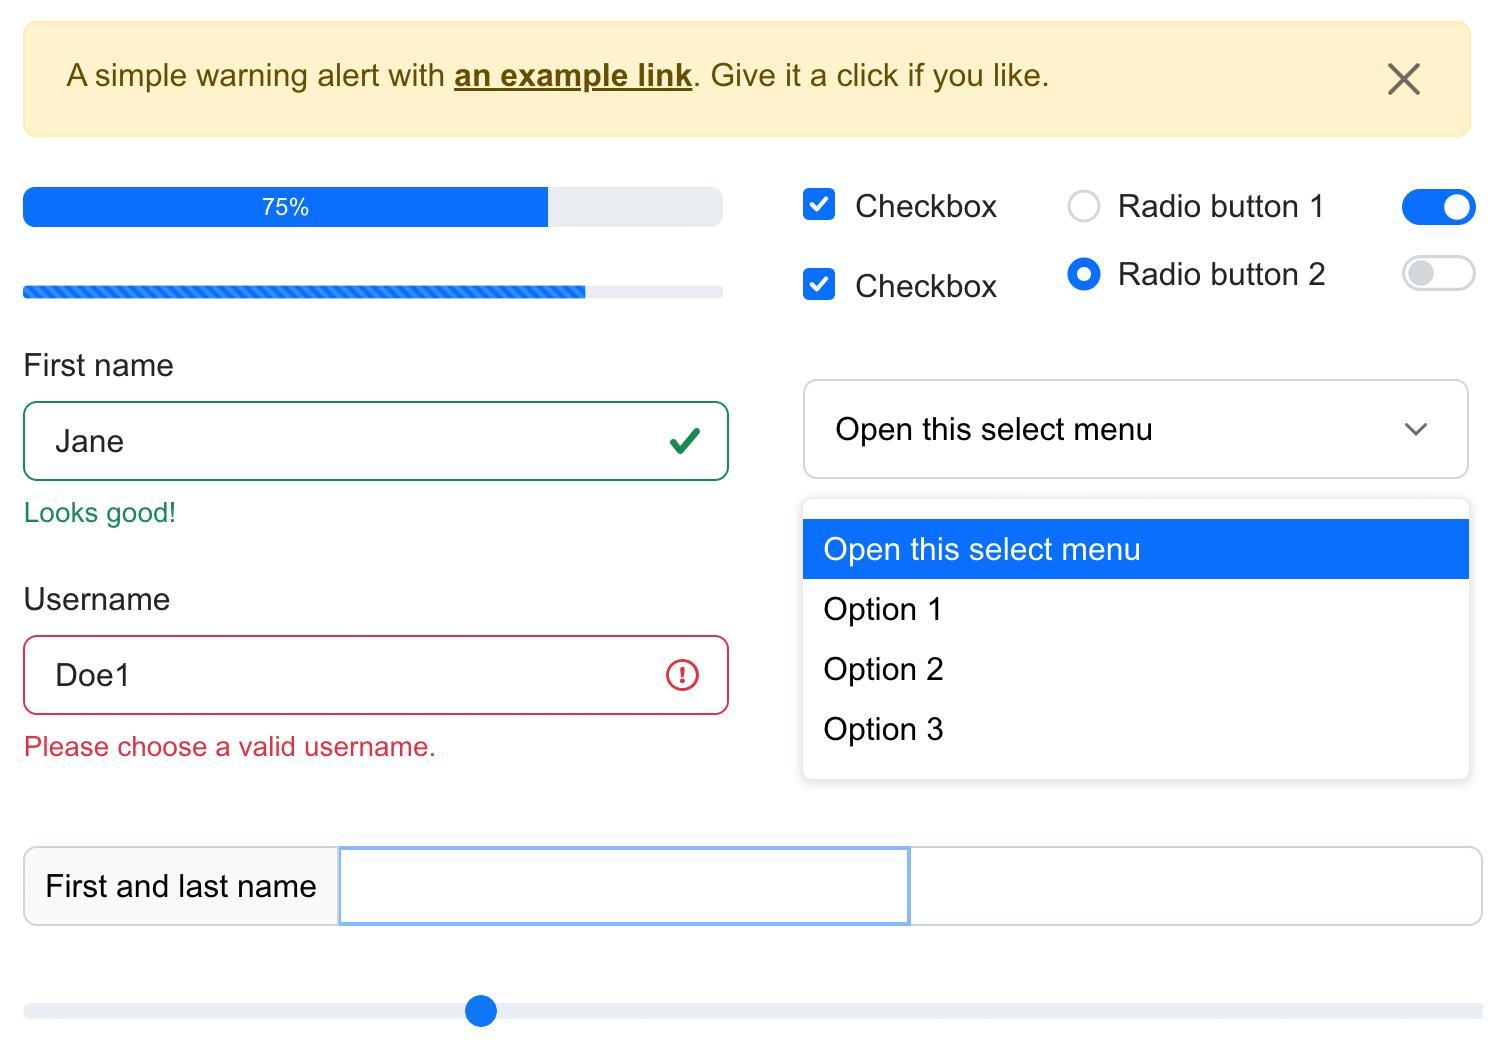button: (803, 520, 1472, 579)
checkbox: (802, 268, 838, 303), (803, 188, 836, 224)
dropdown: (806, 382, 1469, 477)
icon: (1373, 60, 1437, 106)
input: (26, 403, 731, 484), (25, 638, 727, 714), (911, 845, 1485, 927), (342, 845, 911, 923)
label: (34, 863, 323, 919), (1122, 189, 1336, 224), (1117, 260, 1333, 293), (21, 349, 186, 385), (856, 265, 1001, 306), (856, 186, 1003, 224), (25, 584, 177, 621)
radio: (1064, 250, 1110, 298), (1065, 190, 1108, 224)
slider: (19, 992, 1492, 1029)
switch: (1401, 190, 1478, 229), (1401, 256, 1475, 294)
